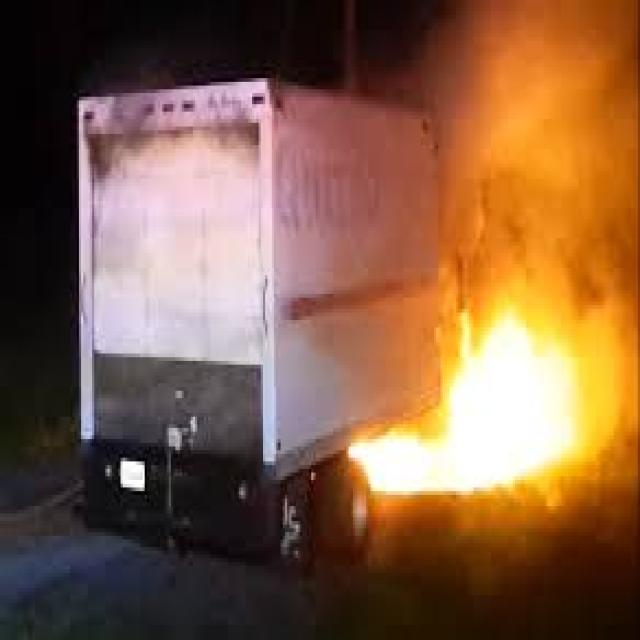Fire: (338, 291, 618, 515)
Smoke: (432, 0, 640, 286)
